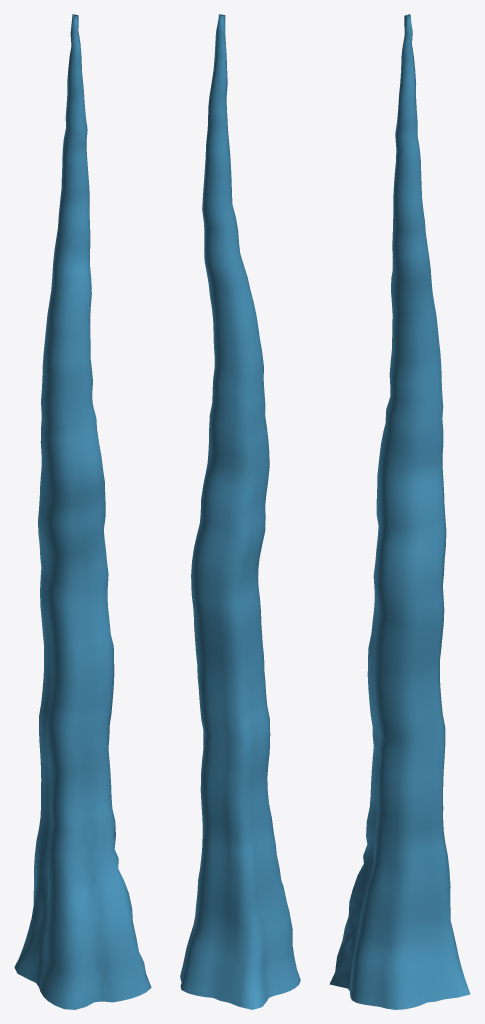
The model's file is Tree_Stem_A.FBX.
The picture shows the model from 3 angles, left to right: view 1: azimuth 90°, elevation 25°; view 2: azimuth 210°, elevation 25°; view 3: azimuth 270°, elevation 25°; orthographic projection. The views are drawn at different scales.
Parts seen in each view (by area): view 1: Object010; view 2: Object010; view 3: Object010.
Part boxes in pixels (x1,y1,x2,y2): Object010: (14,14,151,1009); Object010: (180,14,300,1009); Object010: (329,14,470,1009).
Size of the model in its own units: 109 by 939 by 122.
